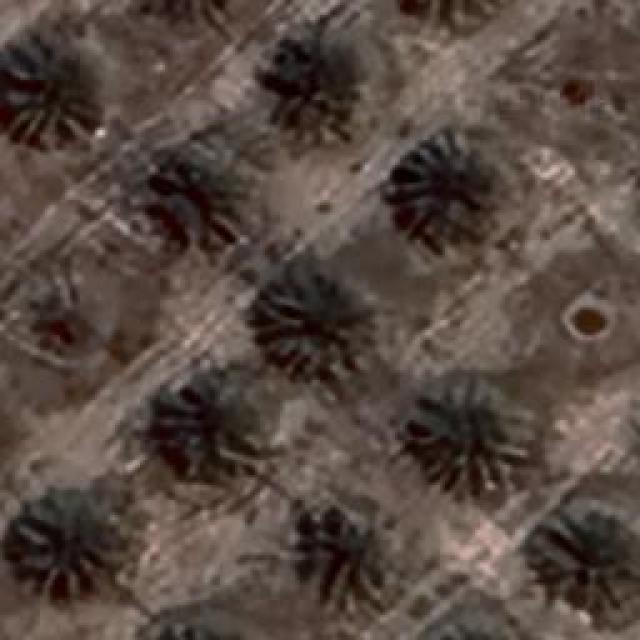PalmTree: (93, 61, 206, 195), (405, 380, 530, 498), (8, 495, 120, 600), (0, 30, 102, 145), (258, 272, 372, 372), (390, 135, 495, 240), (302, 505, 398, 613), (262, 32, 358, 140), (168, 384, 262, 478), (535, 525, 630, 610), (101, 9, 188, 61), (407, 0, 495, 30), (419, 616, 523, 640), (139, 619, 250, 640), (138, 624, 251, 640), (418, 623, 524, 640), (623, 392, 640, 486), (140, 628, 247, 640), (137, 0, 239, 12)
